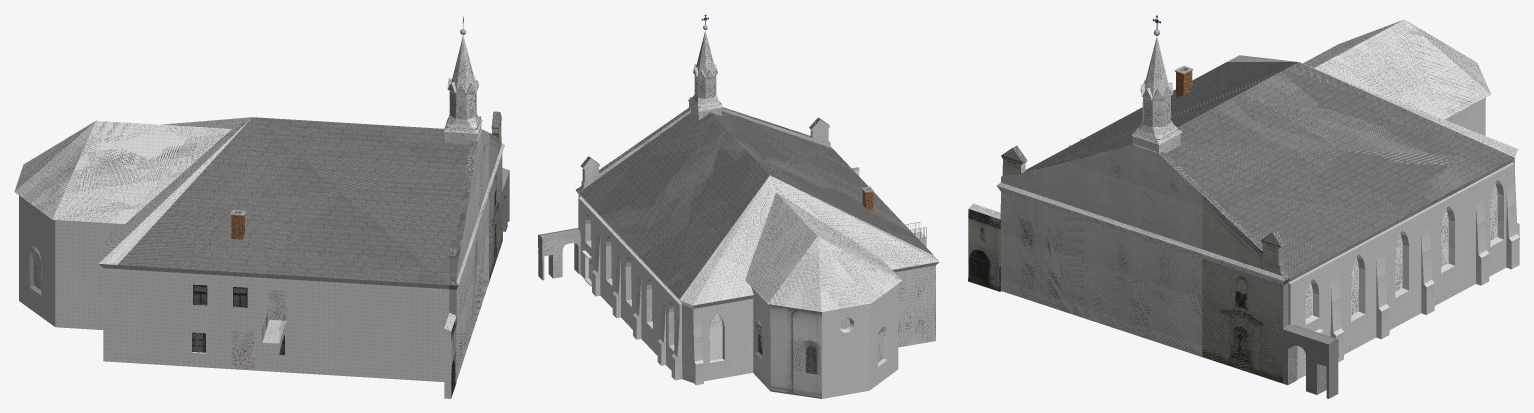
The model's file is kostol_neposkvrneneho.glb.
The picture shows the model from 3 angles, left to right: view 1: azimuth 30°, elevation 25°; view 2: azimuth 150°, elevation 25°; view 3: azimuth 270°, elevation 25°; orthographic projection. The views are drawn at different scales.
Visible parts, largest first — view 1: stena-čistá_11, strecga1, stena-čistá1, stena-čistá_44, stena-čistá, stena-čistá_15, maly-kostol-VPRAVO2, stena-čistá_16, maly-kostol-stred1, okno_sever, maly-kostol-VLAVO1, Roofing_Slate_Dark; view 2: stena-čistá_11, strecga1, stena-čistá1, stena-čistá, šikmá-stena-sanktuária-juh_48, Color_000, stena-čistá_18, šikmá-stena-sanktuária-juh_49, stena-čistá_17, Východná-stena-prístavby, stena-čistá_12, stena-čistá_16 (+1 smaller); view 3: strecga1, stena-čistá, stena-čistá_11, stena-čistá1, maly-kostol-VPRAVO2, maly-kostol-stred1, maly-kostol-VLAVO1, stena-čistá_18, Color_000, brána-vľavo, RíMSA.
Part boxes in pixels (left/top/right/bottom): stena-čistá_11: left=14, top=117, right=456, bottom=398; strecga1: left=15, top=111, right=500, bottom=330; stena-čistá1: left=100, top=117, right=509, bottom=349; stena-čistá_44: left=103, top=269, right=449, bottom=379; stena-čistá: left=191, top=30, right=504, bottom=380; stena-čistá_15: left=55, top=220, right=105, bottom=329; maly-kostol-VPRAVO2: left=489, top=112, right=509, bottom=282; stena-čistá_16: left=19, top=197, right=55, bottom=323; maly-kostol-stred1: left=470, top=130, right=488, bottom=337; okno_sever: left=192, top=284, right=284, bottom=354; maly-kostol-VLAVO1: left=449, top=192, right=469, bottom=378; Roofing_Slate_Dark: left=445, top=41, right=481, bottom=143; stena-čistá_11: left=542, top=108, right=939, bottom=398; strecga1: left=576, top=107, right=937, bottom=310; stena-čistá1: left=538, top=111, right=937, bottom=308; stena-čistá: left=577, top=26, right=828, bottom=385; šikmá-stena-sanktuária-juh_48: left=770, top=304, right=821, bottom=397; Color_000: left=579, top=169, right=859, bottom=381; stena-čistá_18: left=578, top=199, right=679, bottom=368; šikmá-stena-sanktuária-juh_49: left=770, top=305, right=821, bottom=395; stena-čistá_17: left=822, top=304, right=869, bottom=396; Východná-stena-prístavby: left=896, top=266, right=935, bottom=346; stena-čistá_12: left=693, top=301, right=741, bottom=380; stena-čistá_16: left=869, top=287, right=898, bottom=386; strecga1: left=970, top=21, right=1518, bottom=280; stena-čistá: left=997, top=31, right=1519, bottom=382; stena-čistá_11: left=968, top=19, right=1518, bottom=379; stena-čistá1: left=1025, top=62, right=1514, bottom=398; maly-kostol-VPRAVO2: left=1202, top=196, right=1328, bottom=397; maly-kostol-stred1: left=1084, top=145, right=1202, bottom=356; maly-kostol-VLAVO1: left=1000, top=147, right=1085, bottom=317; stena-čistá_18: left=1290, top=165, right=1514, bottom=379; Color_000: left=1288, top=157, right=1514, bottom=370; brána-vľavo: left=968, top=209, right=1000, bottom=291; RíMSA: left=997, top=183, right=1283, bottom=283.
Bounding box in the file's own units: 37.56 × 23.42 × 36.7.
84 materials, 78 textured.
